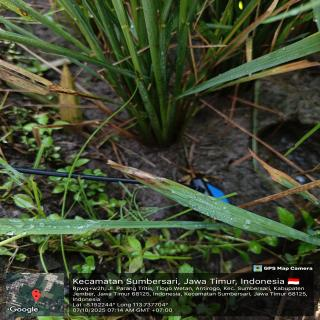Blast: (128, 169, 171, 191)
